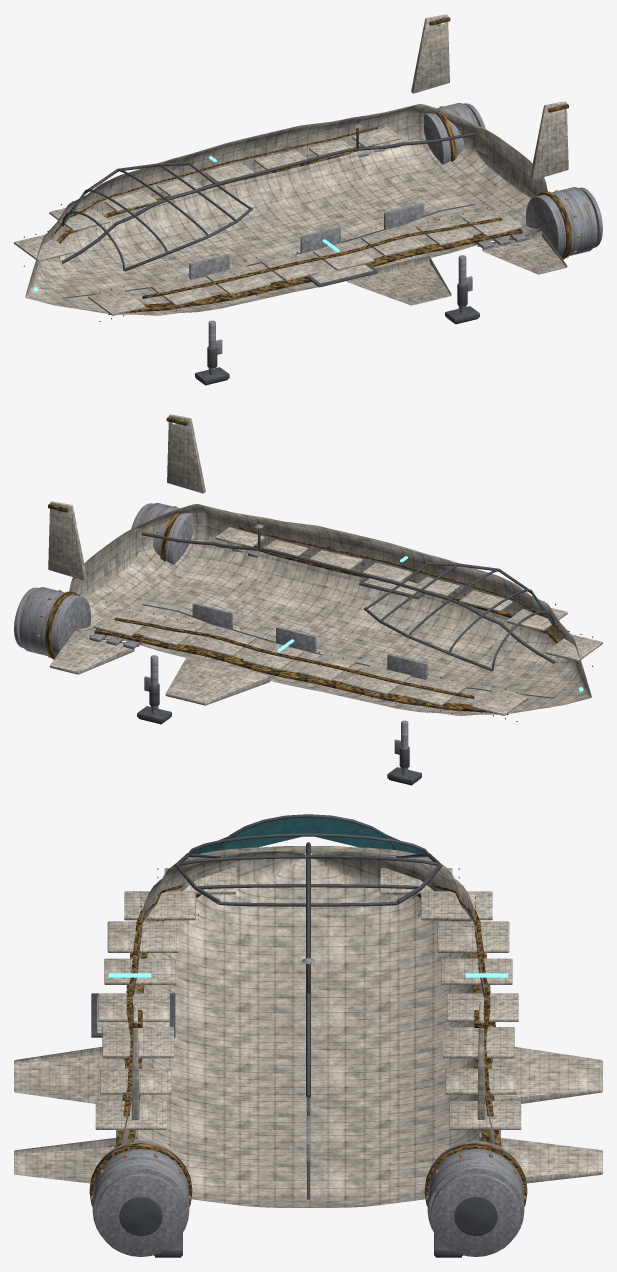
The model's file is launchpad_hull.gltf.
3 views of the same model, one above another, from view 1: azimuth 30°, elevation 25°; view 2: azimuth 150°, elevation 25°; view 3: azimuth 270°, elevation 25° (orthographic). The views are drawn at different scales.
Visible parts, largest first — view 1: IvoryHull, ExposedAlloy, GraphiteMetal, OchreLivery; view 2: IvoryHull, ExposedAlloy, OchreLivery, GraphiteMetal; view 3: IvoryHull, ExposedAlloy, GraphiteMetal, OchreLivery, CanopyGlass.
Part boxes in pixels (<box>): IvoryHull: <box>14,14,568,315</box>; ExposedAlloy: <box>189,103,602,374</box>; GraphiteMetal: <box>23,128,527,384</box>; OchreLivery: <box>54,16,571,312</box>; IvoryHull: <box>48,414,602,715</box>; ExposedAlloy: <box>14,503,427,774</box>; OchreLivery: <box>45,416,562,712</box>; GraphiteMetal: <box>89,528,593,784</box>; IvoryHull: <box>14,846,602,1207</box>; ExposedAlloy: <box>92,957,524,1256</box>; GraphiteMetal: <box>91,814,497,1256</box>; OchreLivery: <box>89,885,527,1206</box>; CanopyGlass: <box>181,817,431,906</box>.
Size of the model in its own units: 10.91 by 4.21 by 7.56.
Materials: 8 (8 with a texture image).
